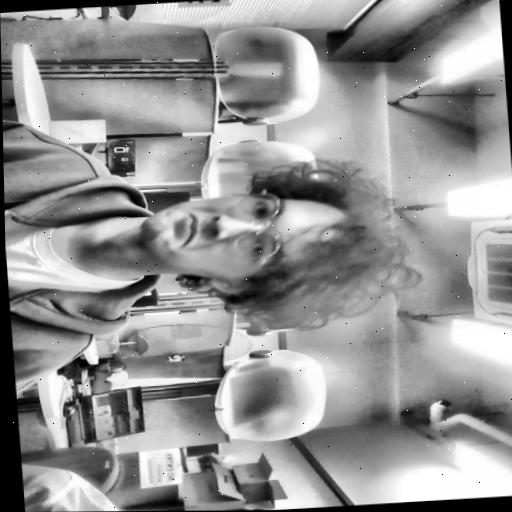Daifuku: (140, 174, 403, 334)
